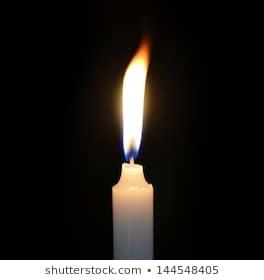Fire: (115, 37, 158, 158)
